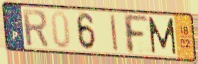0: (50, 10, 72, 50)
6: (75, 12, 97, 52)
F: (121, 13, 150, 56)
I: (109, 13, 120, 54)
M: (147, 15, 178, 56)
R: (21, 7, 50, 48)
